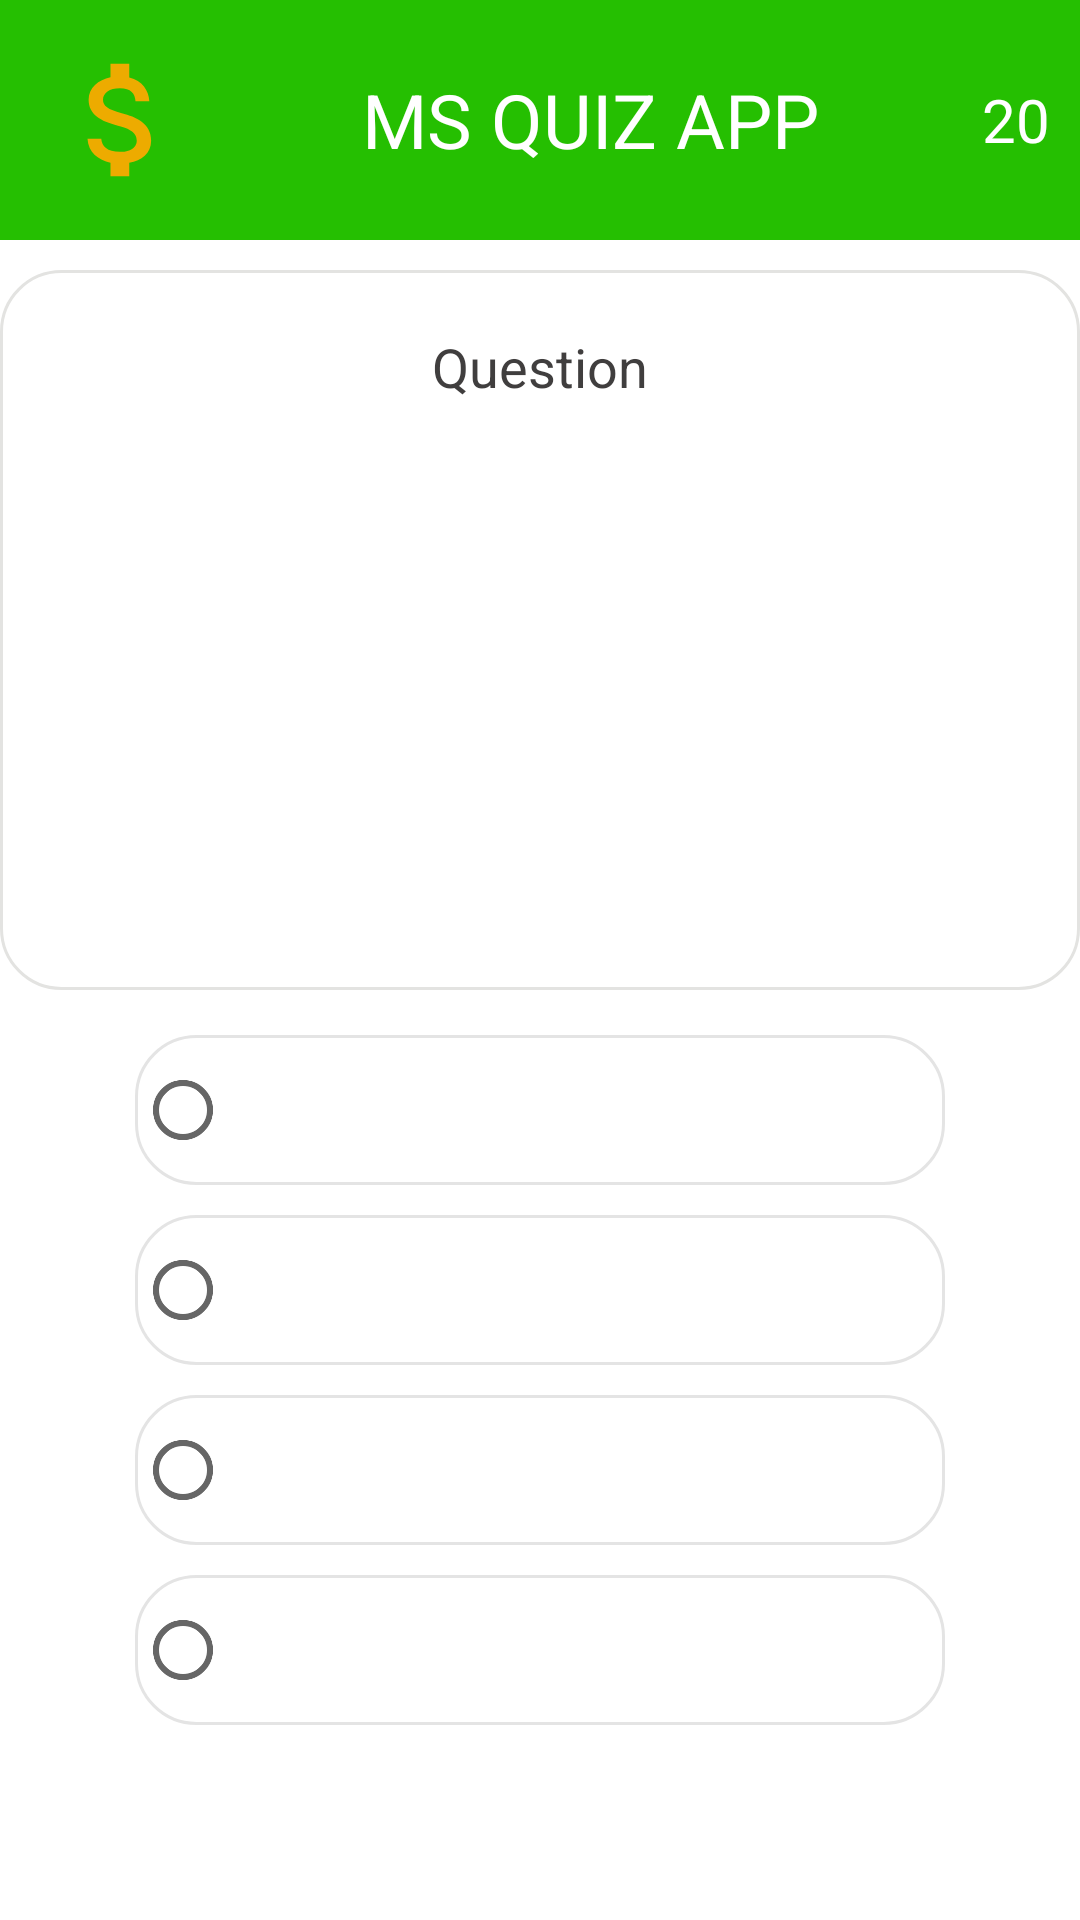

Icons on this 1080×1920 Android screen, each with the point to tap as point (x, y):
attach money: point (119, 120)
